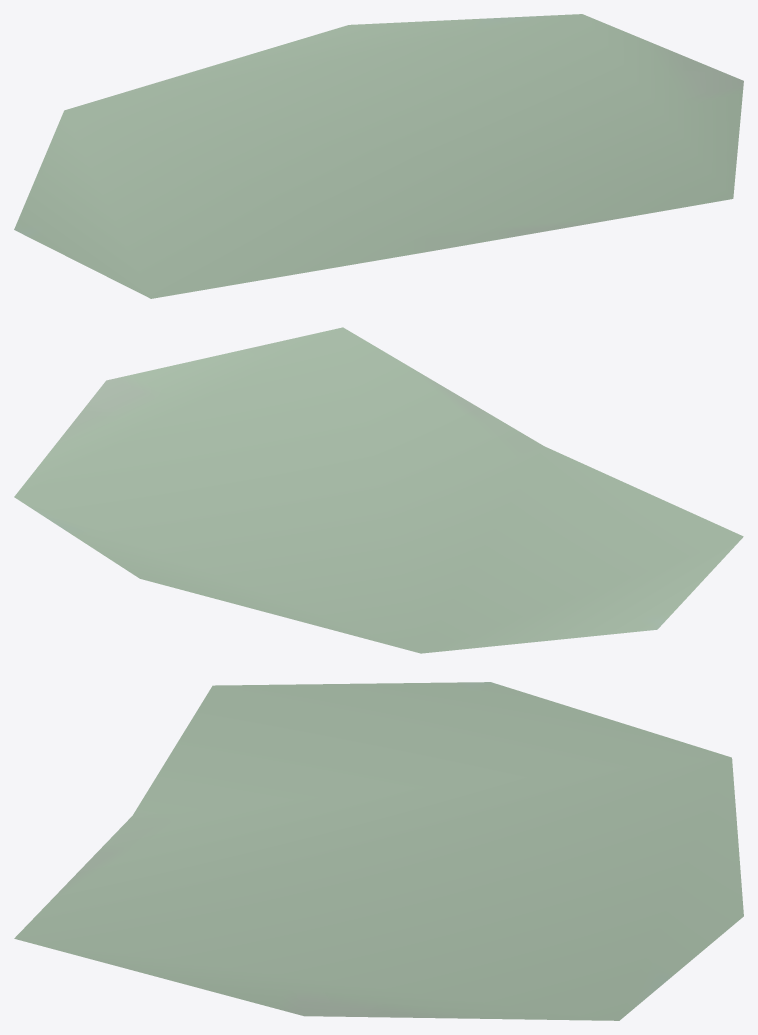
File: TROLLHOLE02_HOLECAP40.fbx
3 views of the same model, one above another, from view 1: azimuth 30°, elevation 25°; view 2: azimuth 150°, elevation 25°; view 3: azimuth 270°, elevation 25° (orthographic). The views are drawn at different scales.
Parts seen in each view (by area): view 1: TROLLHOLE02_HOLECAP40; view 2: TROLLHOLE02_HOLECAP40; view 3: TROLLHOLE02_HOLECAP40.
Boxes of the visible parts, bbox=[...] form: TROLLHOLE02_HOLECAP40: bbox=[14, 14, 743, 298]; TROLLHOLE02_HOLECAP40: bbox=[14, 327, 743, 653]; TROLLHOLE02_HOLECAP40: bbox=[14, 682, 743, 1020].
Size of the model in its own units: 28369 by 1901 by 22455.
1 material, 1 textured.
